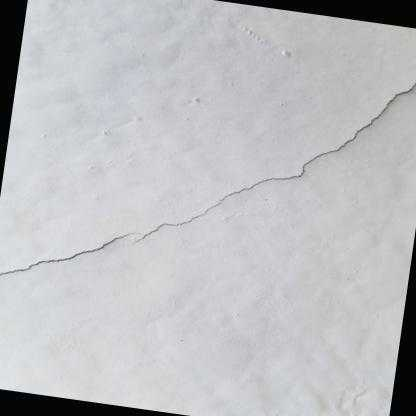crack: (134, 80, 416, 243), (0, 231, 140, 274)
